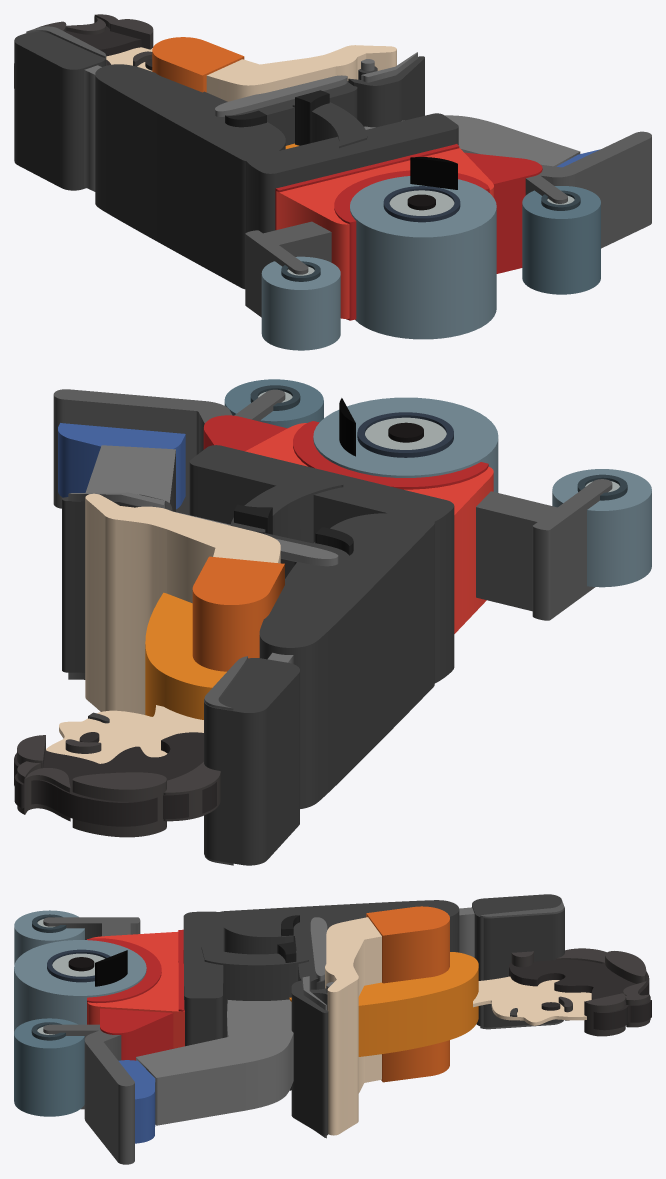
Rendered from emoji_u1f9d1_1f3fb_200d_1f9bc_200d_27a1.glb.
The picture shows the model from 3 angles, top to bottom: view 1: azimuth 30°, elevation 25°; view 2: azimuth 150°, elevation 25°; view 3: azimuth 270°, elevation 25°; orthographic projection. The views are drawn at different scales.
Parts seen in each view (by area): view 1: emoji_u1f9d1_1f3fb_200d_1f9bc_200d_27a1; view 2: emoji_u1f9d1_1f3fb_200d_1f9bc_200d_27a1; view 3: emoji_u1f9d1_1f3fb_200d_1f9bc_200d_27a1.
Boxes of the visible parts, <box> form: emoji_u1f9d1_1f3fb_200d_1f9bc_200d_27a1: <box>14,14,651,350</box>; emoji_u1f9d1_1f3fb_200d_1f9bc_200d_27a1: <box>14,379,651,865</box>; emoji_u1f9d1_1f3fb_200d_1f9bc_200d_27a1: <box>14,894,651,1164</box>.
Bounding box in the file's own units: 0.0236 × 0.0086 × 0.0339.
